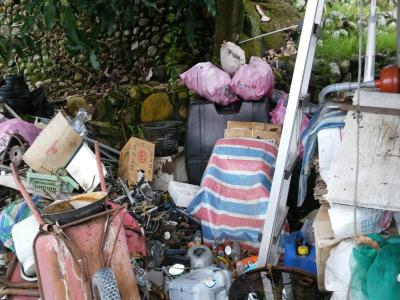box: (20, 111, 83, 175), (114, 135, 157, 187)
plastic_bag: (205, 138, 273, 243), (228, 54, 274, 102), (185, 60, 240, 100)
plate: (39, 191, 111, 224)
